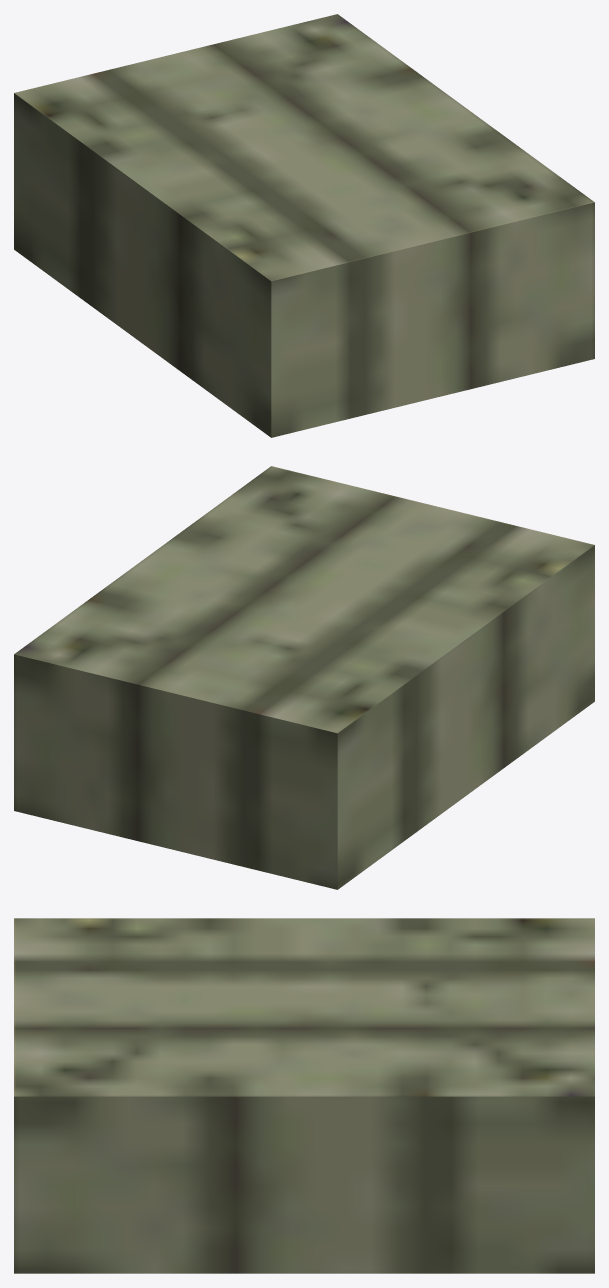
The model's file is bomb.fbx.
3 views of the same model, one above another, from view 1: azimuth 30°, elevation 25°; view 2: azimuth 150°, elevation 25°; view 3: azimuth 270°, elevation 25° (orthographic). The views are drawn at different scales.
Parts seen in each view (by area): view 1: Cube; view 2: Cube; view 3: Cube.
Boxes of the visible parts, <box> form: Cube: <box>14,14,594,437</box>; Cube: <box>14,466,594,889</box>; Cube: <box>14,918,594,1273</box>.
Bounding box in the file's own units: 0.4239 × 0.1959 × 0.5837.
